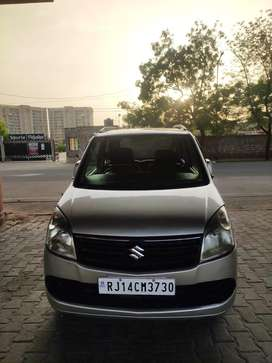RJ14CM3730: (98, 277, 175, 295)
